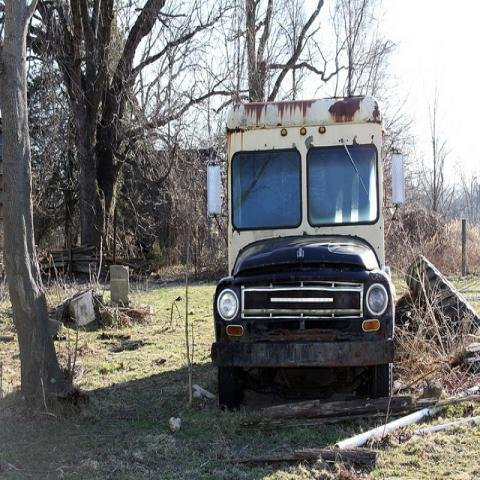truck: (209, 95, 396, 413)
